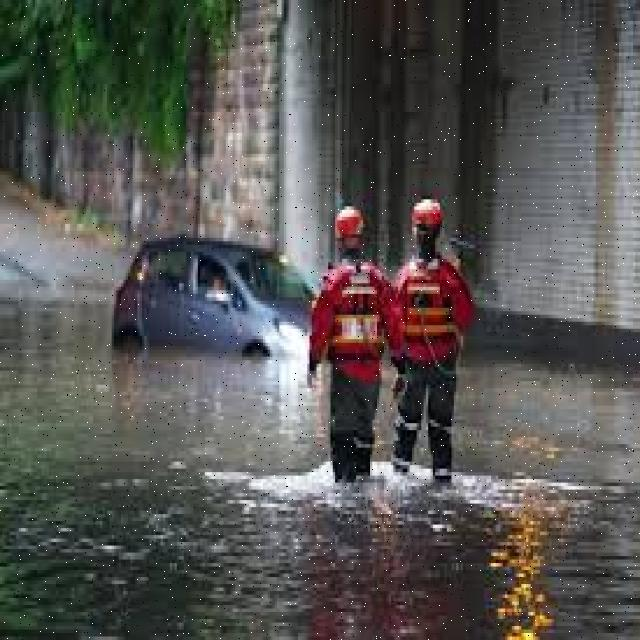rescuer: (280, 191, 399, 504), (384, 187, 486, 493)
